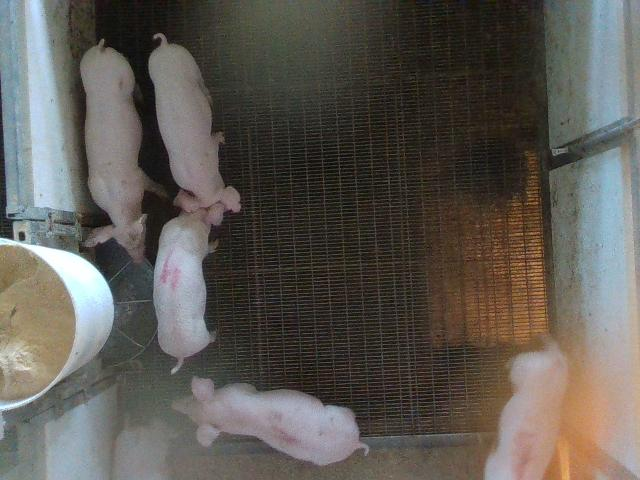pig-1: (175, 384, 369, 465)
pig-3: (485, 342, 568, 479)
pig-4: (154, 190, 225, 373)
